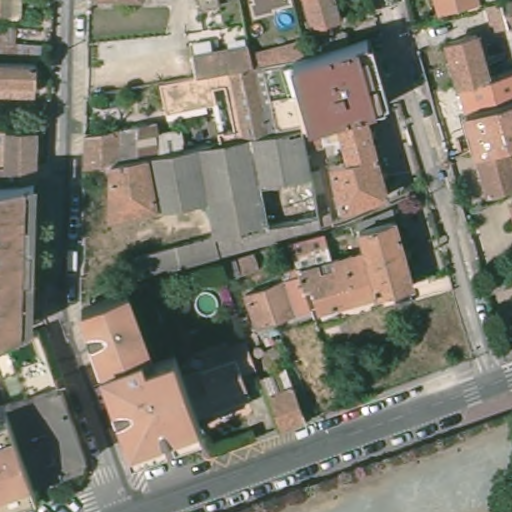pool: (191, 290, 223, 317), (270, 9, 299, 31)
